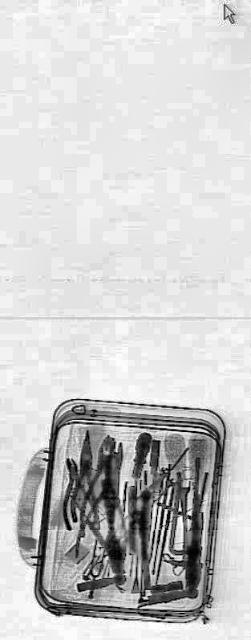Pliers: (76, 422, 124, 554), (74, 466, 130, 560), (55, 442, 97, 548), (70, 428, 100, 528)
